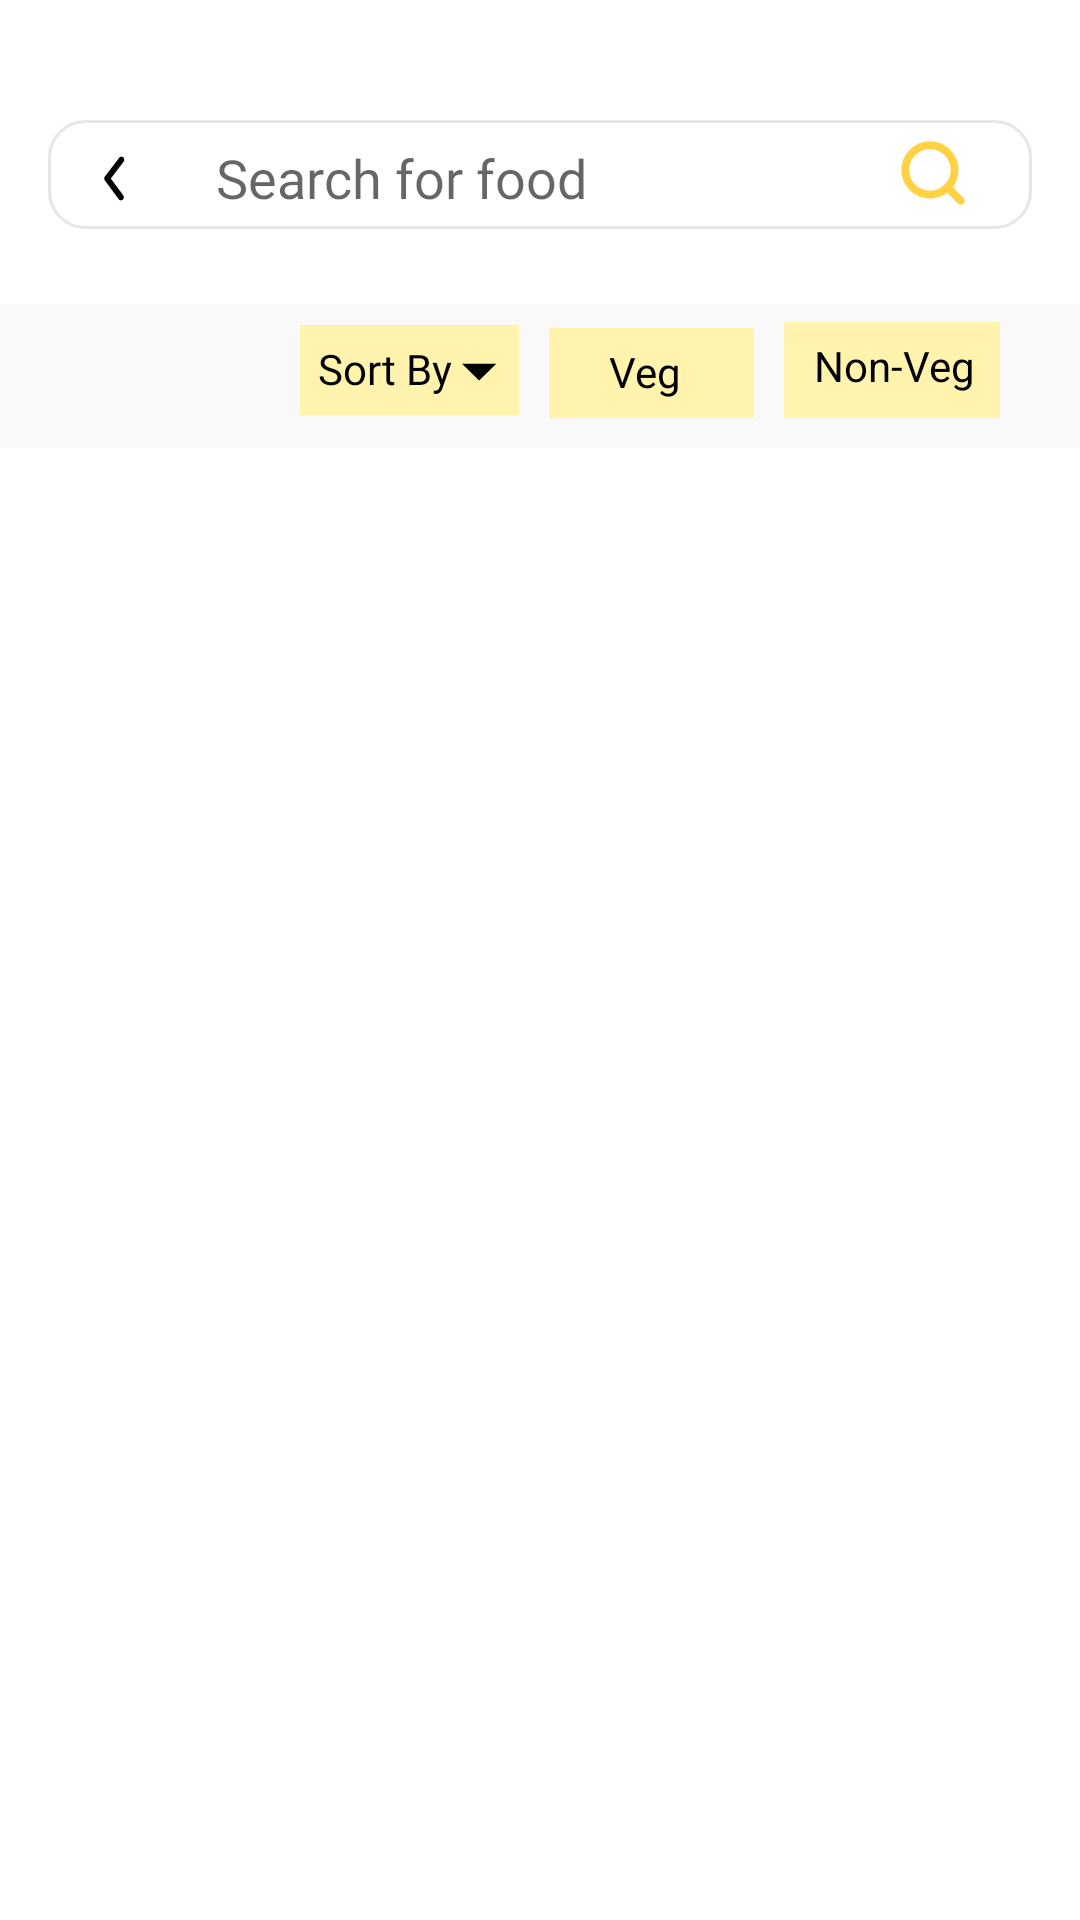

Icon bounding boxes for this 1080*1920 phone screenshot, format (x1, y1, x2, y2):
drop down arrow: (462, 363, 496, 381)
home page search: (901, 141, 965, 205)
left arrow: (104, 156, 125, 201)
